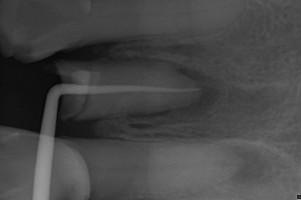Furcation Involvement: (170, 63, 224, 116), (128, 111, 169, 117)
